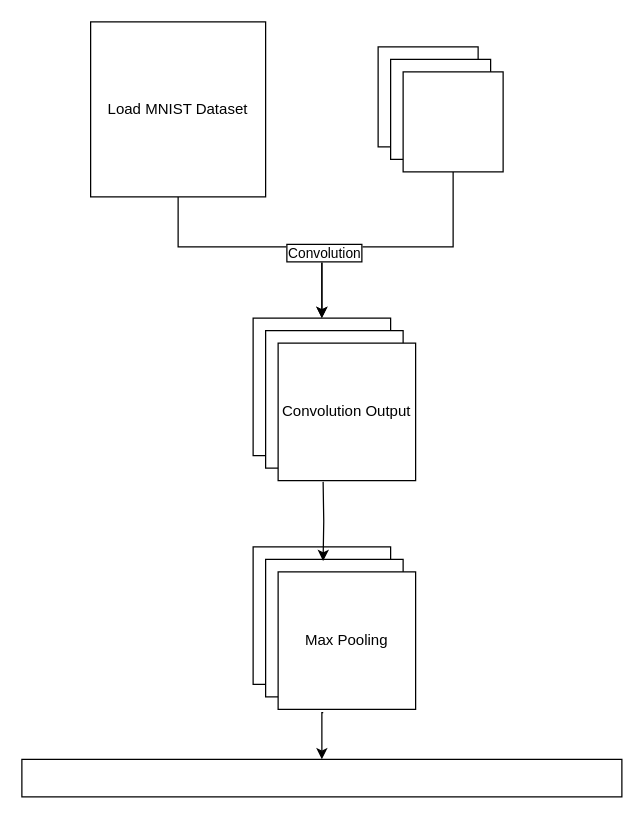
Some shapes in this 644 by 819 pixel diagram are drawn without their labels. The centre of each missing label's shape, as x and y in pixels:
"Fully Connected Neural Network with Backpropagation" goes at point 321,777.
"Load Filters (Leung Malik Filter Banks)" goes at point 452,121.
